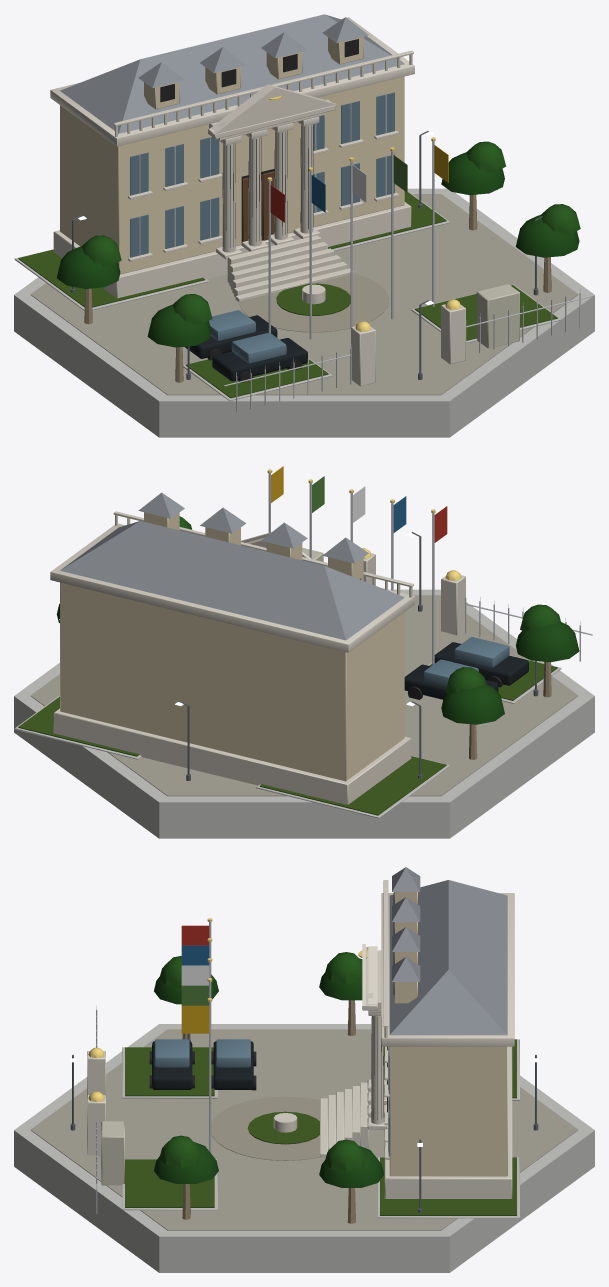
The model's file is embassy.glb.
3 renders of one model, top to bottom at view 1: azimuth 30°, elevation 25°; view 2: azimuth 150°, elevation 25°; view 3: azimuth 270°, elevation 25°, orthographic.
Parts seen in each view (by area): view 1: pavers, wall_concrete, stone, plaster, roof_slate, leaf, glass, turf, paint, metal, dark, cladding (+2 smaller); view 2: plaster, wall_concrete, roof_slate, stone, pavers, leaf, turf, paint, glass, metal, steel_dark, wood; view 3: pavers, wall_concrete, roof_slate, plaster, stone, turf, leaf, paint, glass, cladding, wood, metal (+3 smaller).
Part boxes in pixels (left/top/right/bottom): pavers: left=30, top=194, right=578, bottom=395; wall_concrete: left=14, top=95, right=594, bottom=437; stone: left=50, top=17, right=465, bottom=386; plaster: left=60, top=36, right=404, bottom=274; roof_slate: left=60, top=14, right=404, bottom=133; leaf: left=57, top=141, right=580, bottom=347; glass: left=130, top=92, right=394, bottom=363; turf: left=18, top=191, right=557, bottom=398; paint: left=184, top=145, right=448, bottom=381; metal: left=224, top=141, right=592, bottom=412; dark: left=160, top=39, right=358, bottom=382; cladding: left=476, top=284, right=519, bottom=348; plaster: left=60, top=512, right=404, bottom=781; wall_concrete: left=14, top=589, right=594, bottom=838; roof_slate: left=60, top=492, right=404, bottom=640; stone: left=50, top=511, right=465, bottom=804; pavers: left=30, top=595, right=578, bottom=796; leaf: left=56, top=516, right=579, bottom=724; turf: left=18, top=643, right=557, bottom=815; paint: left=271, top=466, right=528, bottom=699; glass: left=424, top=637, right=509, bottom=686; metal: left=268, top=473, right=592, bottom=664; steel_dark: left=180, top=532, right=538, bottom=780; wood: left=469, top=661, right=551, bottom=759; pavers: left=30, top=1029, right=578, bottom=1230; wall_concrete: left=14, top=1024, right=594, bottom=1272; roof_slate: left=389, top=867, right=507, bottom=1035; plaster: left=389, top=892, right=507, bottom=1176; stone: left=87, top=880, right=514, bottom=1198; turf: left=125, top=1039, right=516, bottom=1215; leaf: left=154, top=952, right=384, bottom=1187; paint: left=152, top=925, right=253, bottom=1089; glass: left=154, top=1039, right=389, bottom=1156; cladding: left=101, top=1121, right=124, bottom=1185; wood: left=182, top=1000, right=387, bottom=1223; metal: left=96, top=922, right=211, bottom=1213.
Bounding box in the file's own units: 21.49 × 11.9 × 24.6.
